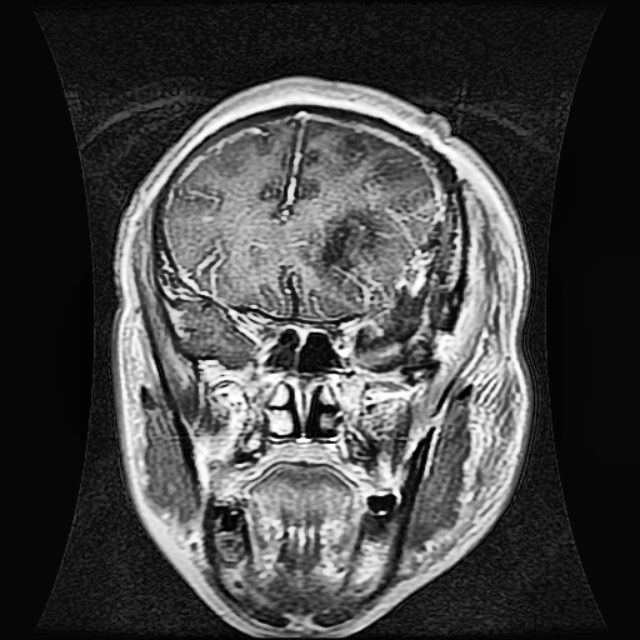Meningioma: (354, 183, 462, 369)
